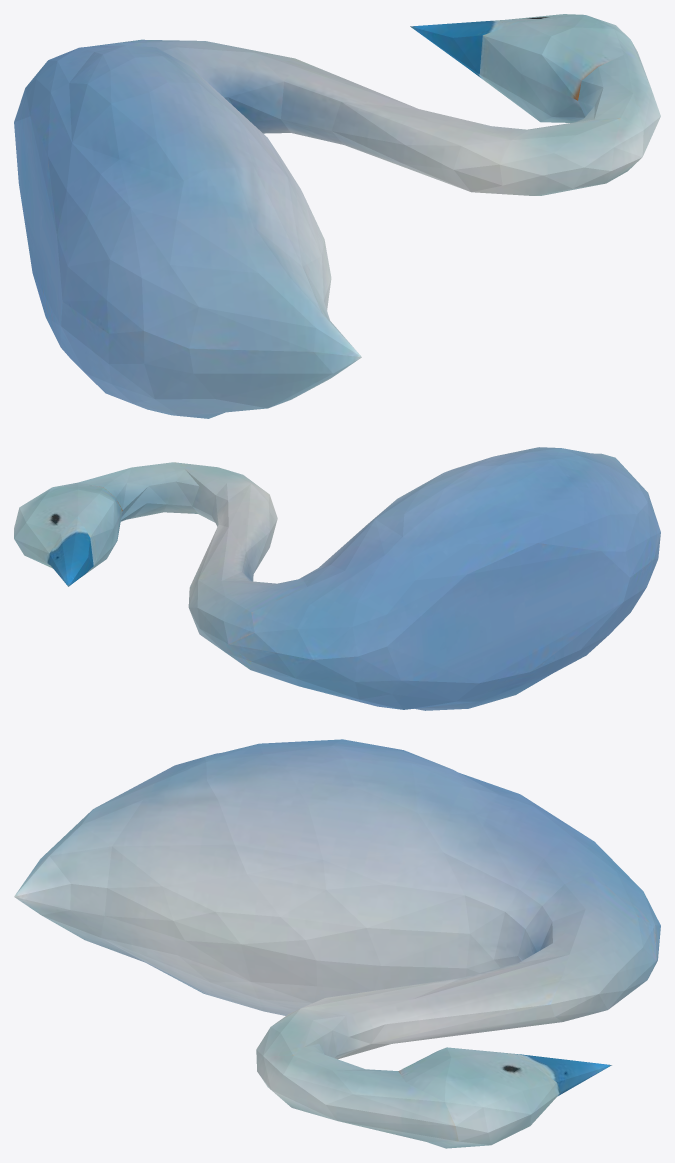
3 views of the same model, one above another, from view 1: azimuth 30°, elevation 25°; view 2: azimuth 150°, elevation 25°; view 3: azimuth 270°, elevation 25° (orthographic). The views are drawn at different scales.
Visible parts, largest first — view 1: n1; view 2: n1; view 3: n1.
Part boxes in pixels (bbox=[...]): n1: bbox=[14, 14, 660, 418]; n1: bbox=[14, 447, 660, 710]; n1: bbox=[14, 739, 660, 1148].
Size of the model in its own units: 0.9 by 0.3696 by 0.8072.
1 material, 1 textured.
